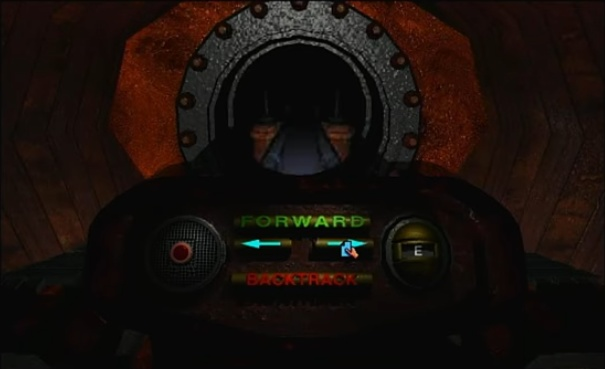Keep: (335, 237, 361, 261)
